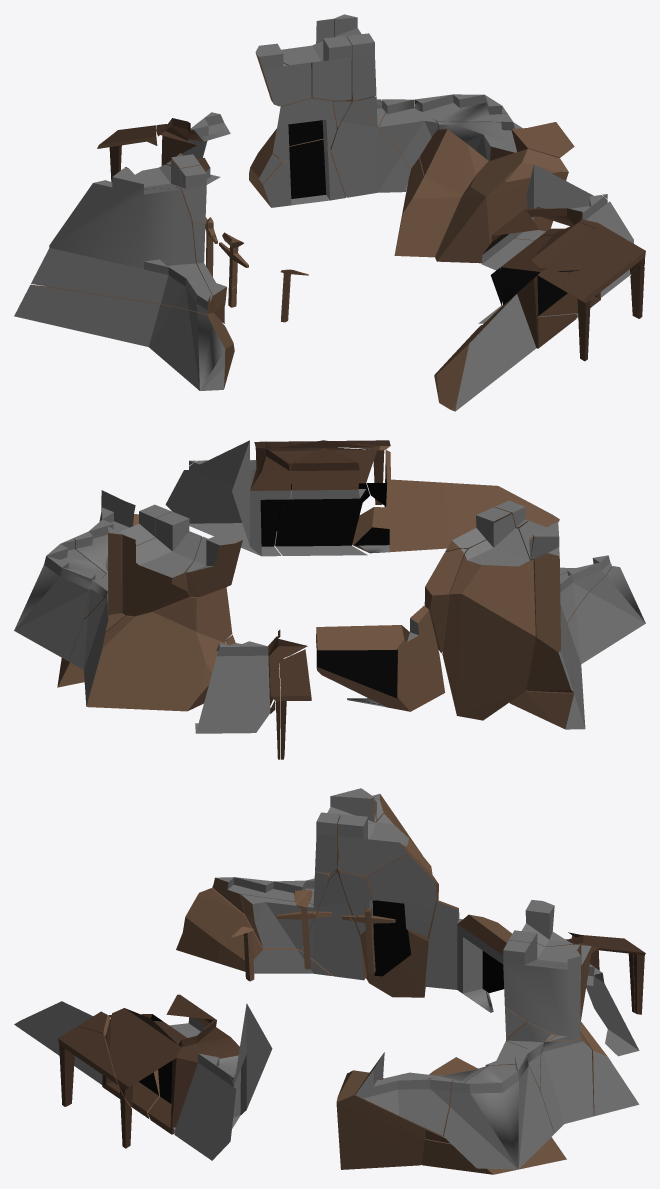
Rendered from Barracks.fbx.
The picture shows the model from 3 angles, top to bottom: view 1: azimuth 30°, elevation 25°; view 2: azimuth 150°, elevation 25°; view 3: azimuth 270°, elevation 25°; orthographic projection.
Visible parts, largest first — view 1: Cube.010_cell.041, Cube.010_cell.049, Cube.010_cell.038, Cube.010_cell.095, Cube.010_cell.088, Cube.010_cell.091, Cube.010_cell.131, Cube.010_cell.036, Cube.010_cell.008, Cube.010_cell.093, Cube.010_cell.053, Cube.010_cell.005 (+13 smaller); view 2: Cube.010_cell.096, Cube.010_cell.131, Cube.010_cell.038, Cube.010_cell.014, Cube.010_cell.036, Cube.010_cell.095, Cube.010_cell.041, Cube.010_cell.049, Cube.010_cell.027, Cube.010_cell.084, Cube.010_cell.053, Cube.010_cell.081 (+11 smaller); view 3: Cube.010_cell.036, Cube.010_cell.084, Cube.010_cell.096, Cube.010_cell.014, Cube.010_cell.038, Cube.010_cell.069, Cube.010_cell.049, Cube.010_cell.088, Cube.010_cell.091, Cube.010_cell.093, Cube.010_cell.095, Cube.010_cell.145 (+18 smaller).
Boxes of the visible parts, left/top/right/bottom form: Cube.010_cell.041: left=31, top=168, right=213, bottom=313; Cube.010_cell.049: left=14, top=284, right=234, bottom=390; Cube.010_cell.038: left=478, top=210, right=645, bottom=323; Cube.010_cell.095: left=434, top=270, right=577, bottom=411; Cube.010_cell.088: left=435, top=148, right=568, bottom=263; Cube.010_cell.091: left=330, top=99, right=410, bottom=197; Cube.010_cell.131: left=249, top=128, right=345, bottom=207; Cube.010_cell.036: left=514, top=164, right=633, bottom=297; Cube.010_cell.008: left=394, top=157, right=462, bottom=257; Cube.010_cell.093: left=437, top=113, right=574, bottom=161; Cube.010_cell.053: left=281, top=18, right=351, bottom=101; Cube.010_cell.005: left=419, top=129, right=488, bottom=194; Cube.010_cell.096: left=442, top=514, right=535, bottom=720; Cube.010_cell.131: left=85, top=612, right=226, bottom=711; Cube.010_cell.038: left=254, top=440, right=377, bottom=555; Cube.010_cell.014: left=316, top=605, right=444, bottom=711; Cube.010_cell.036: left=165, top=440, right=291, bottom=556; Cube.010_cell.095: left=352, top=443, right=559, bottom=553; Cube.010_cell.041: left=519, top=520, right=611, bottom=692; Cube.010_cell.049: left=509, top=566, right=645, bottom=729; Cube.010_cell.027: left=195, top=630, right=307, bottom=733; Cube.010_cell.084: left=14, top=538, right=105, bottom=661; Cube.010_cell.053: left=122, top=511, right=201, bottom=616; Cube.010_cell.081: left=185, top=532, right=242, bottom=597; Cube.010_cell.036: left=148, top=1003, right=272, bottom=1160; Cube.010_cell.084: left=444, top=1054, right=553, bottom=1169; Cube.010_cell.096: left=334, top=798, right=432, bottom=997; Cube.010_cell.014: left=425, top=900, right=511, bottom=1012; Cube.010_cell.038: left=109, top=994, right=214, bottom=1134; Cube.010_cell.069: left=503, top=940, right=580, bottom=1041; Cube.010_cell.049: left=176, top=888, right=332, bottom=975; Cube.010_cell.088: left=336, top=1070, right=424, bottom=1169; Cube.010_cell.091: left=506, top=1020, right=593, bottom=1133; Cube.010_cell.093: left=354, top=1052, right=488, bottom=1136; Cube.010_cell.095: left=14, top=1001, right=159, bottom=1117; Cube.010_cell.145: left=302, top=872, right=366, bottom=980.
Bounding box in the file's own units: 155 × 49.23 × 159.
